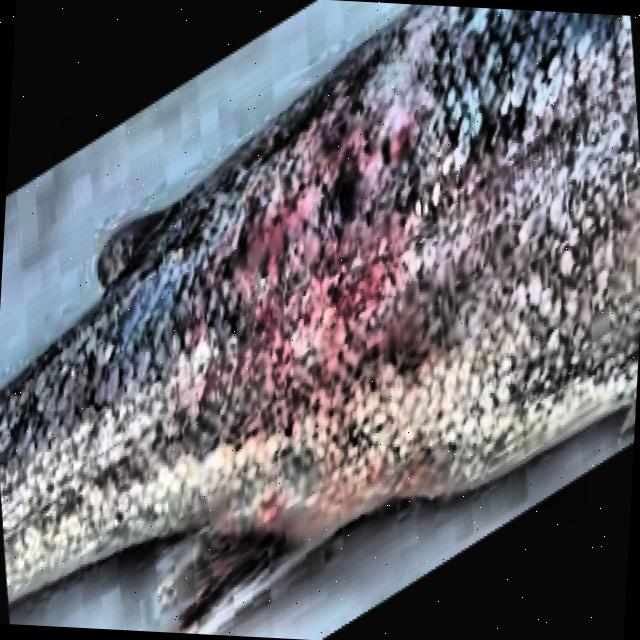mild_red: (0, 4, 640, 601)
